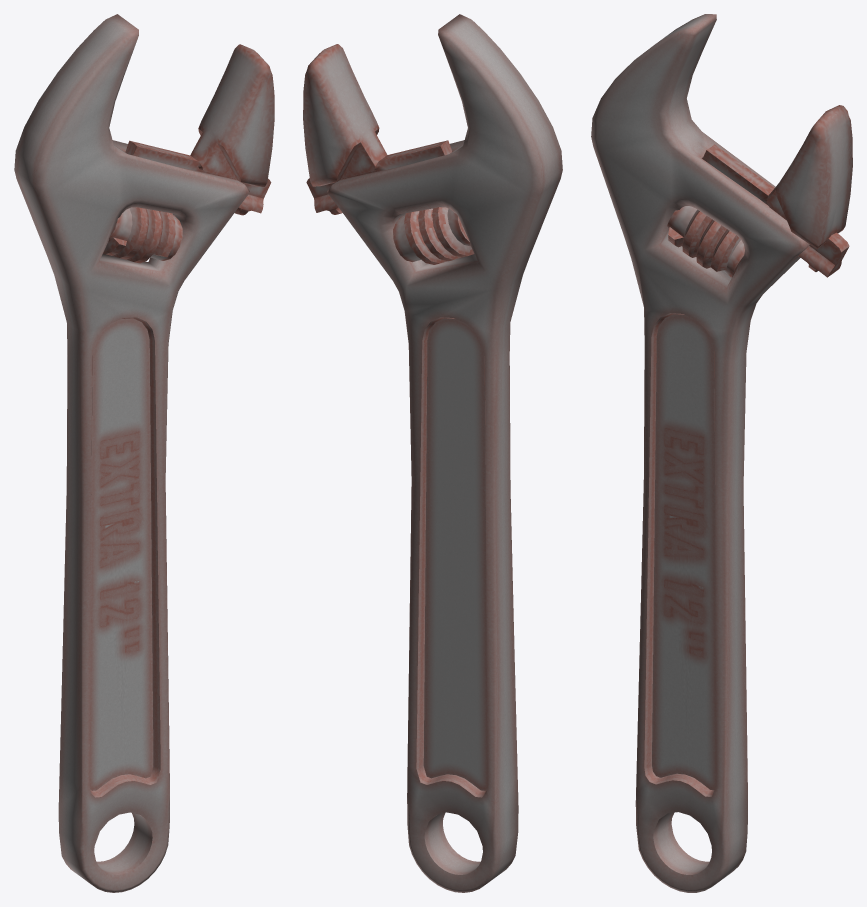
File: wrench_low.glb
3 views of the same model, side by side, from view 1: azimuth 30°, elevation 25°; view 2: azimuth 150°, elevation 25°; view 3: azimuth 330°, elevation 25° (orthographic).
Parts seen in each view (by area): view 1: wrench_low, wrenchhaut_low, wrenchpiece_low; view 2: wrench_low, wrenchhaut_low, wrenchpiece_low; view 3: wrench_low, wrenchhaut_low, wrenchpiece_low.
Part boxes in pixels (bbox=[...]): wrench_low: bbox=[14, 14, 249, 892]; wrenchhaut_low: bbox=[125, 44, 274, 215]; wrenchpiece_low: bbox=[103, 207, 182, 263]; wrench_low: bbox=[327, 14, 562, 892]; wrenchhaut_low: bbox=[303, 44, 452, 214]; wrenchpiece_low: bbox=[393, 207, 474, 264]; wrench_low: bbox=[591, 14, 809, 892]; wrenchhaut_low: bbox=[702, 105, 852, 277]; wrenchpiece_low: bbox=[667, 206, 744, 277].
Size of the model in its own units: 0.1866 by 0.6333 by 0.0436.
1 material, 1 textured.
